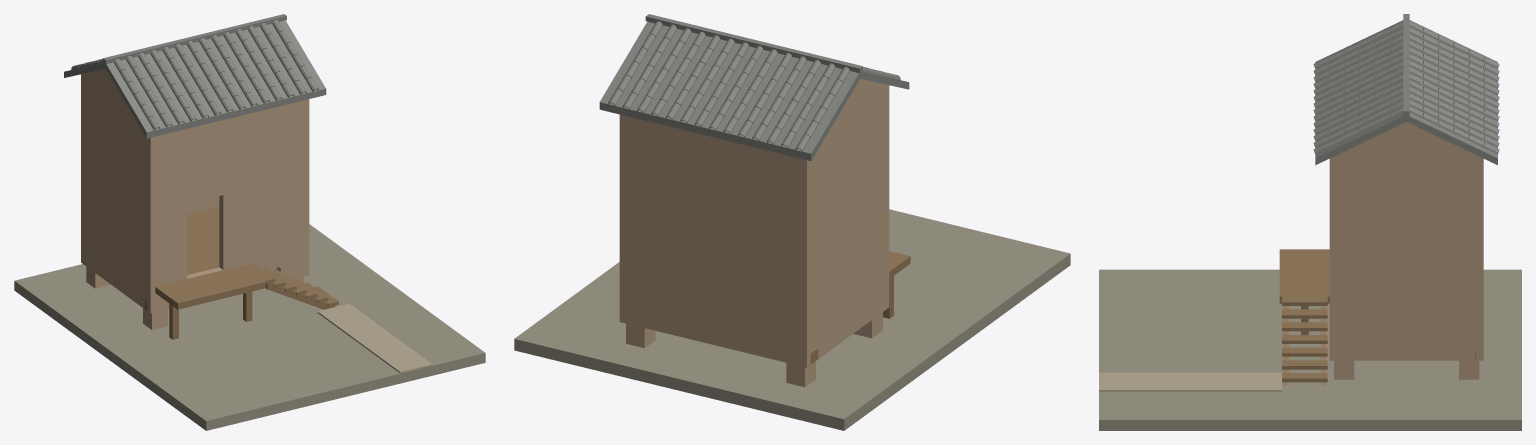
File: granary-A.glb
The picture shows the model from 3 angles, left to right: view 1: azimuth 30°, elevation 25°; view 2: azimuth 150°, elevation 25°; view 3: azimuth 270°, elevation 25°; orthographic projection. The views are drawn at different scales.
Visible parts, largest first — view 1: C_site, A_front_right, A_side, A_roof, A_front_left, C_approach, A_front_header, B_gallery, B_floor, B_ridge, A_back, B_gable_closure (+1 smaller); view 2: A_back, C_site, A_side, A_roof, B_ridge, B_gable_closure, A_front_left, A_foot.001, A_foot.003; view 3: C_site, A_side.001, A_roof, C_approach, B_gable_closure.001, B_gallery, A_front_right, A_back, B_ridge, B_tread_00, B_tread_01, B_tread_02 (+6 smaller).
Boxes of the visible parts, x1,y1,x2,y2 form: C_site: (14,224,485,430); A_front_right: (219,99,309,278); A_side: (84,84,146,308); A_roof: (64,20,326,138); A_front_left: (146,129,187,313); C_approach: (317,303,432,373); A_front_header: (187,120,223,203); B_gallery: (155,265,265,309); B_floor: (187,207,219,274); B_ridge: (103,14,286,63); A_back: (81,81,219,264); B_gable_closure: (81,69,135,120); A_back: (619,114,811,367); C_site: (514,209,1070,430); A_side: (811,96,884,358); A_roof: (599,21,909,160); B_ridge: (645,14,862,73); B_gable_closure: (824,79,889,140); A_front_left: (884,93,889,310); A_foot.001: (786,361,815,387); A_foot.003: (626,323,655,348); C_site: (1099,269,1521,430); A_side.001: (1338,160,1474,360); A_roof: (1315,20,1497,165); C_approach: (1099,372,1281,391); B_gable_closure.001: (1329,122,1483,160); B_gallery: (1279,249,1329,303); A_front_right: (1329,160,1338,360); A_back: (1475,160,1483,360); B_ridge: (1403,14,1409,115); B_tread_00: (1282,373,1327,382); B_tread_01: (1282,360,1327,369); B_tread_02: (1282,347,1327,356).
Bounding box in the file's own units: 7.4 × 6.59 × 8.8.
